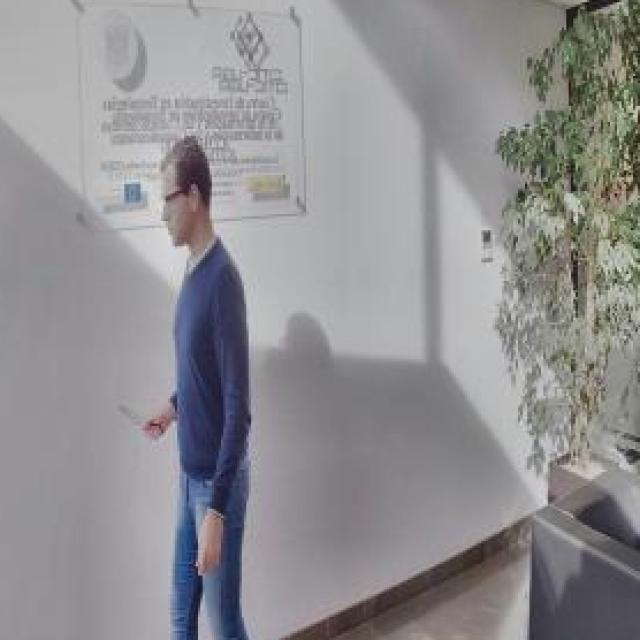knife: (114, 396, 166, 441)
